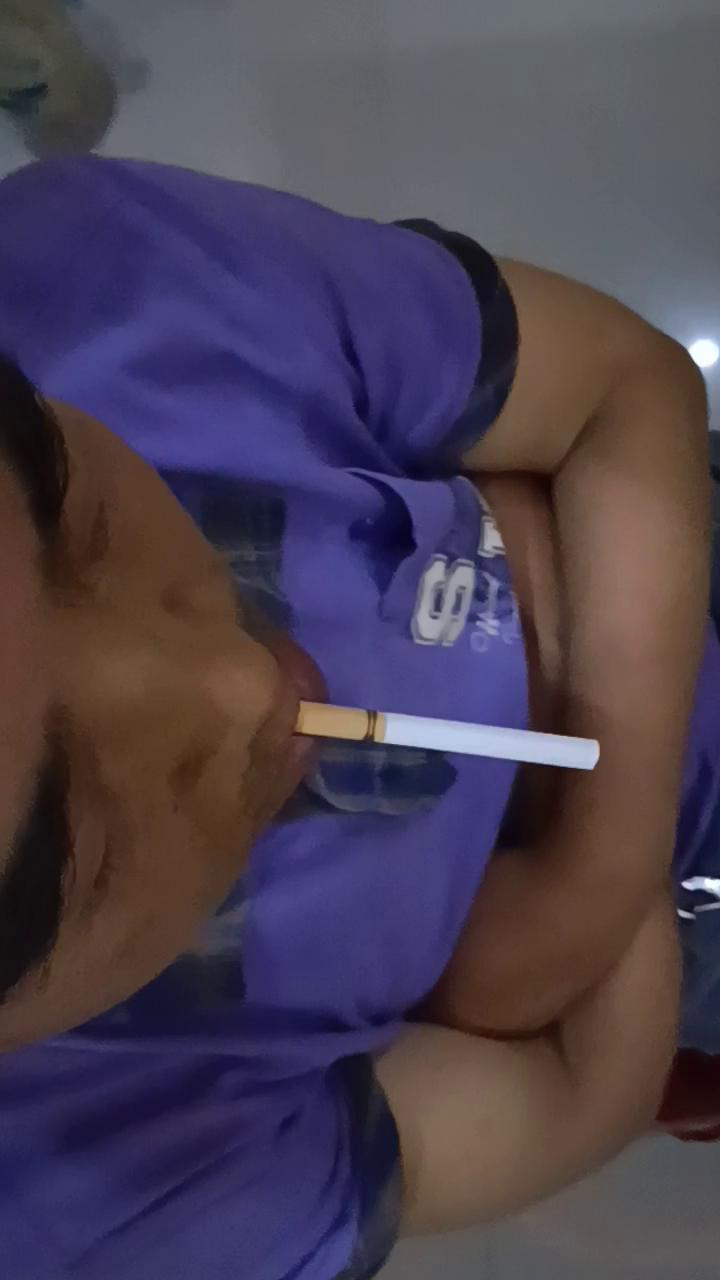smoke: (294, 698, 609, 774)
